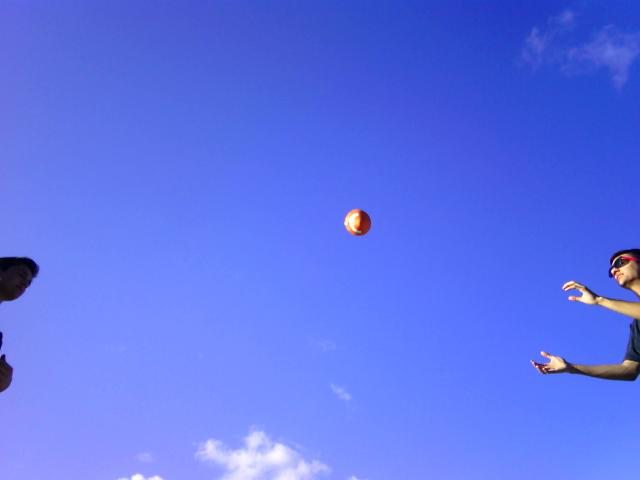football: (341, 208, 374, 239)
